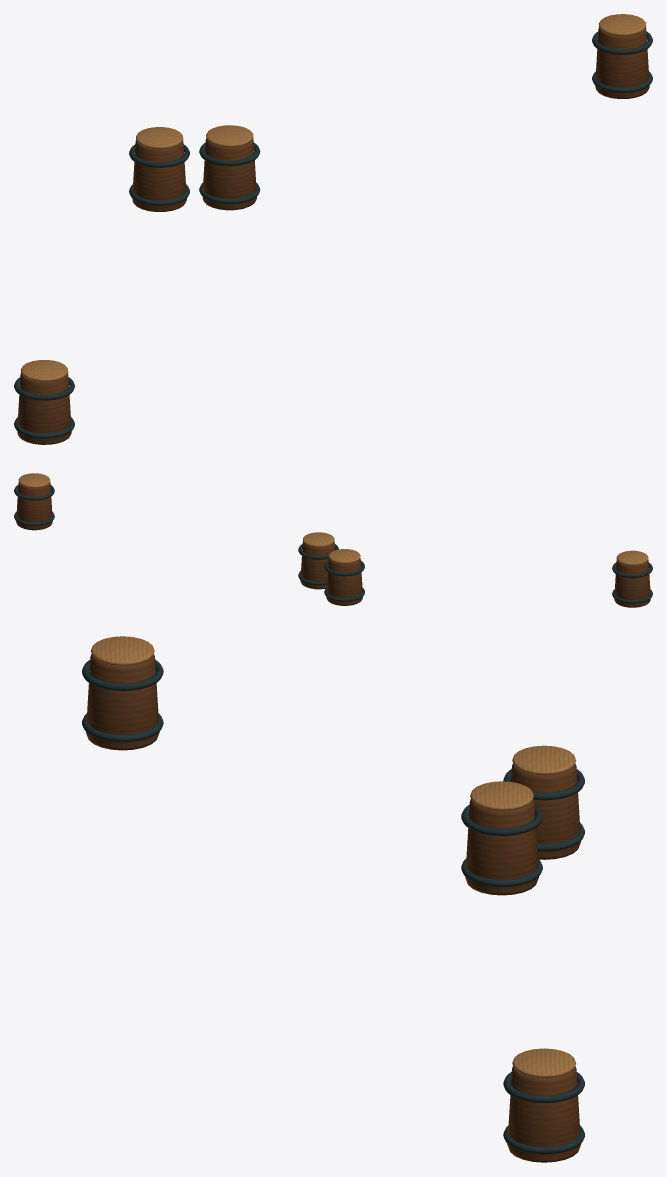
File: Fishing_Barrels.fbx
3 renders of one model, top to bottom at view 1: azimuth 30°, elevation 25°; view 2: azimuth 150°, elevation 25°; view 3: azimuth 270°, elevation 25°, orthographic. The views are drawn at different scales.
Parts seen in each view (by area): view 1: Fishing_Barrels; view 2: Fishing_Barrels; view 3: Fishing_Barrels.
Boxes of the visible parts, box(x1,y1,x2,y2) form: Fishing_Barrels: box(14, 14, 652, 444); Fishing_Barrels: box(14, 473, 652, 607); Fishing_Barrels: box(82, 636, 584, 1162).
Size of the model in its own units: 1447 by 597 by 205.
